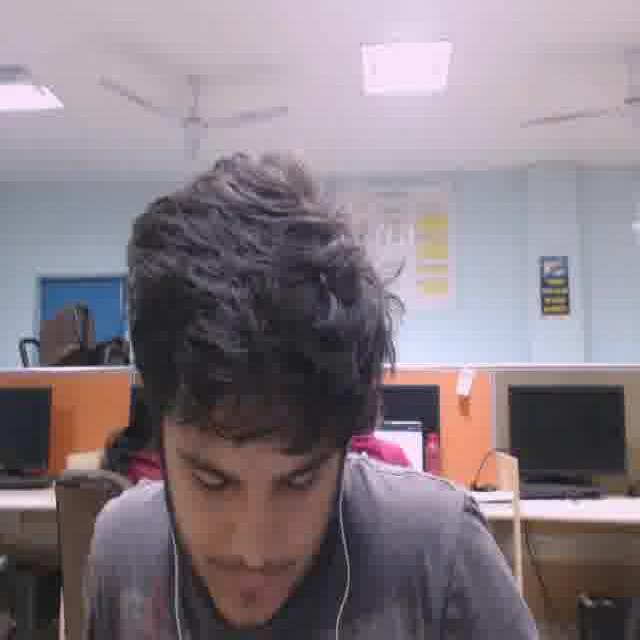Boredom: (163, 390, 325, 622)
